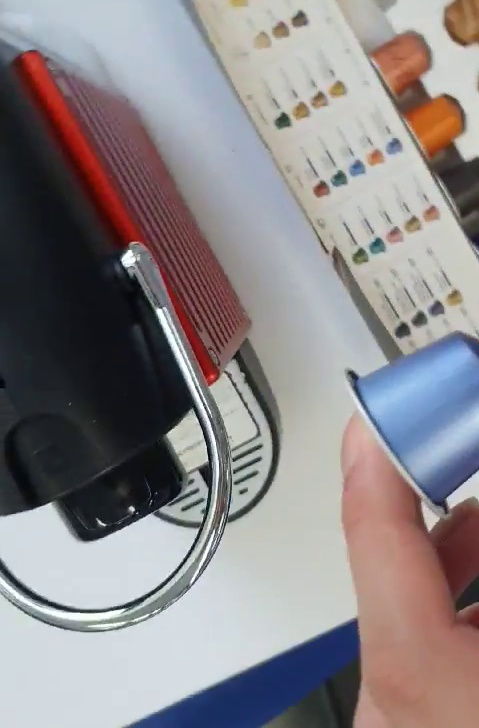capsule_7: (345, 330, 479, 520)
